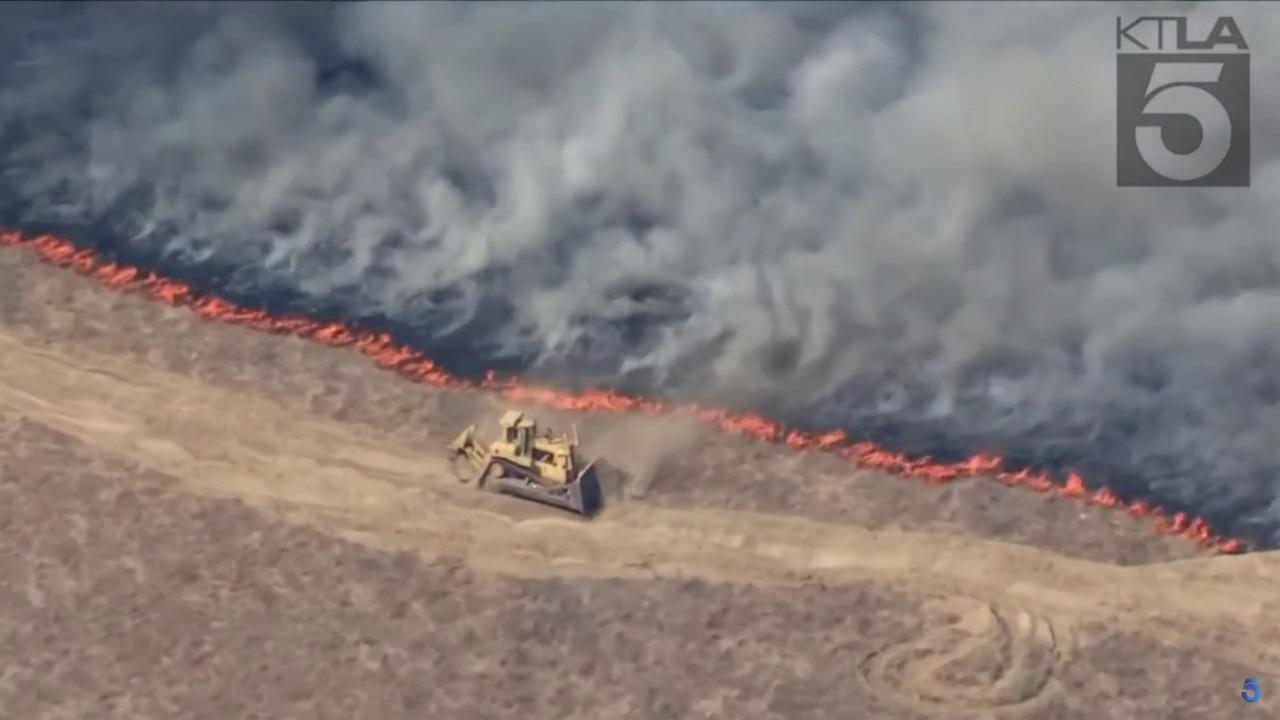fire: (0, 225, 470, 388), (481, 367, 1054, 495), (1152, 503, 1211, 548), (1056, 465, 1087, 499), (1084, 486, 1121, 507), (1123, 494, 1148, 520), (1217, 537, 1239, 554)
smoke: (0, 0, 1280, 540)
